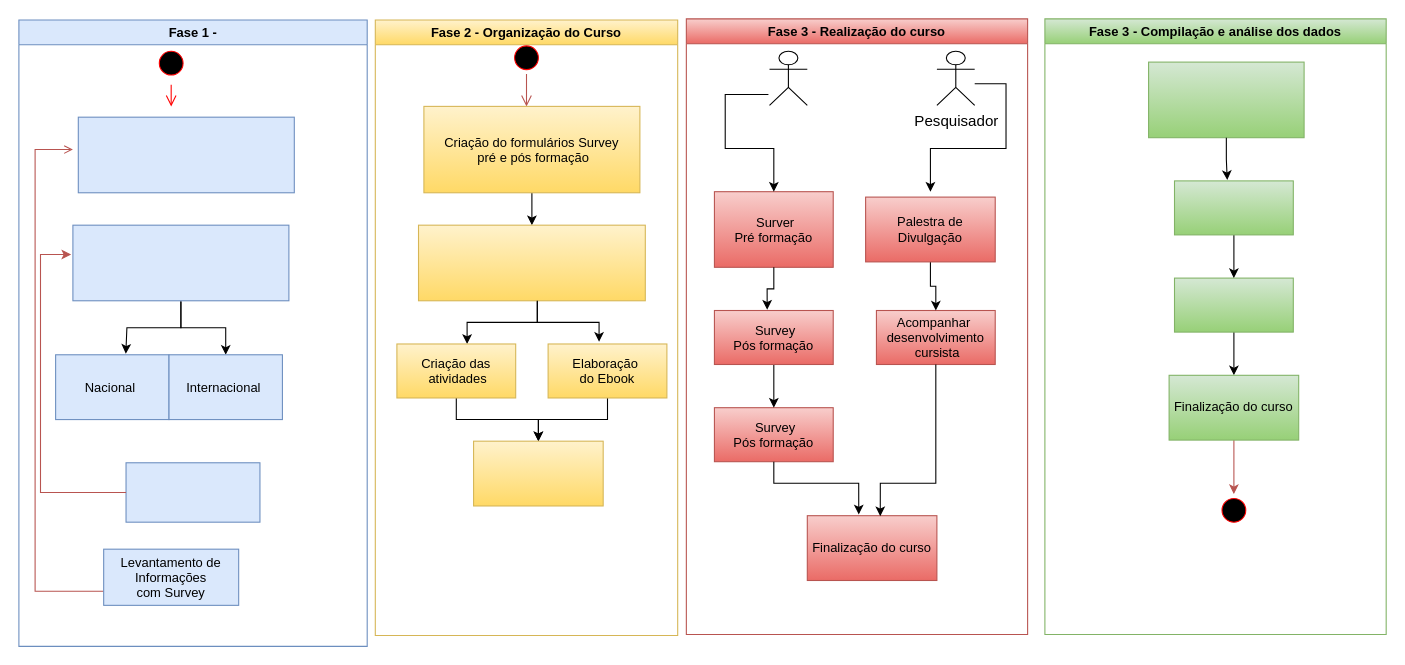
This 1405x665 diagram has some shape labels left out. The centre of each missing label's shape, as x and y in pixels:
Analisar Mapeamento e documentos: (1226,99)
Análise Documental: (192,492)
Criação dos conteúdos especificos do curso: (531,262)
Estado da Arte Formação de Professores Sobre PC: (185,154)
Mapeamento Sistemático da Literatura: (180,262)
preparar designer do repositório: (1233,304)
Preparação do curso: (538,473)
Professores da Educação Básica: (787,77)
Realizar as análises finais: (1233,207)
